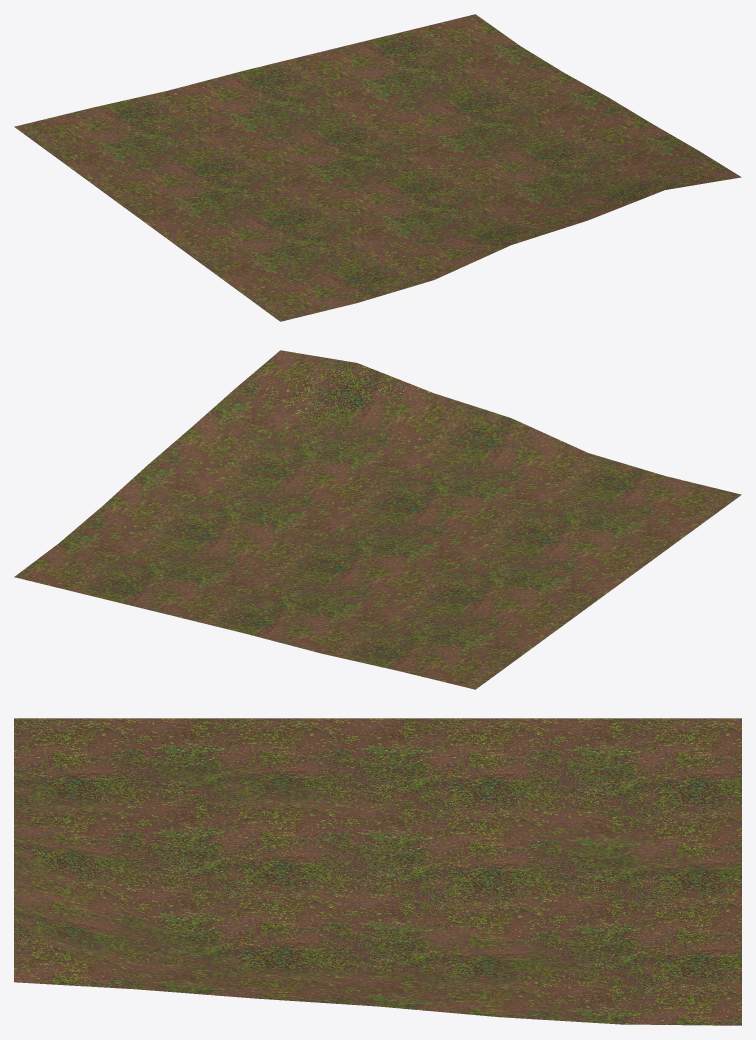
Rendered from updated-ground.glb.
The picture shows the model from 3 angles, top to bottom: view 1: azimuth 30°, elevation 25°; view 2: azimuth 150°, elevation 25°; view 3: azimuth 270°, elevation 25°; orthographic projection. The views are drawn at different scales.
Parts seen in each view (by area): view 1: Plane.001; view 2: Plane.001; view 3: Plane.001.
Part boxes in pixels (x1,y1,x2,y2): Plane.001: (14, 14, 741, 321); Plane.001: (14, 350, 741, 689); Plane.001: (14, 718, 741, 1025).
Bounding box in the file's own units: 4 × 0.3677 × 4.
1 material, 1 textured.
